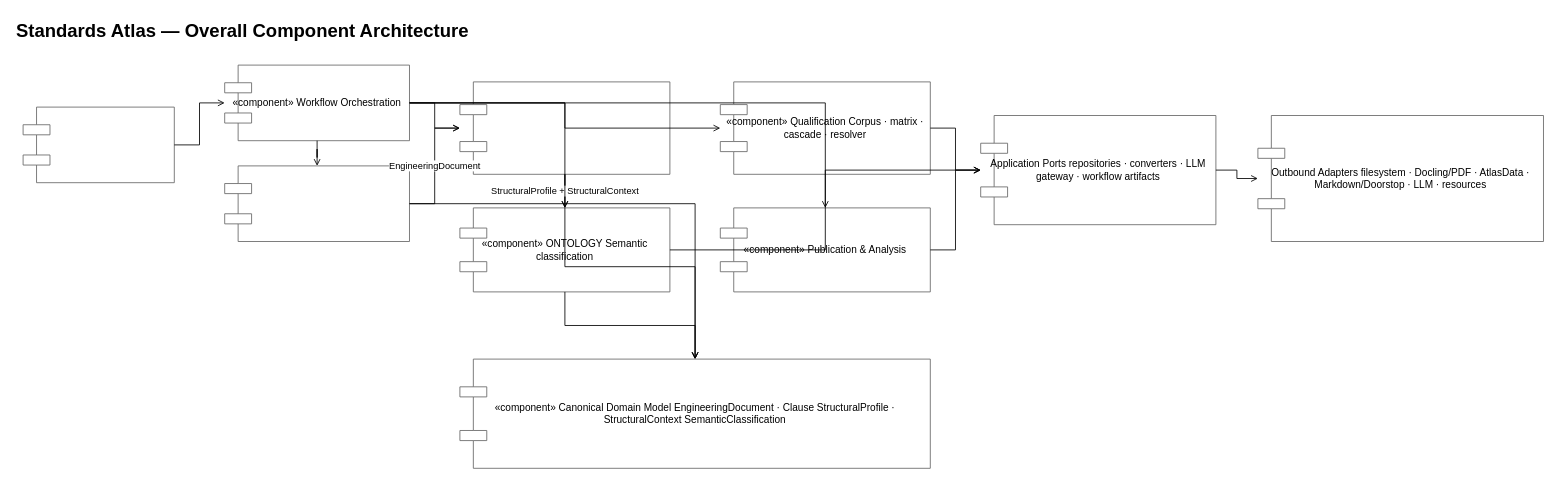
Some shapes in this 1558 by 483 pixel diagram are drawn without their labels. The box of each missing label's shape, as (x1, y1, x2, y2) in pixels:
«component» CLI / MCP: (22, 106, 174, 183)
«component» Document Processing: (224, 165, 410, 242)
«component» TAXONOMY Structural profile · context · scope reach: (459, 81, 670, 174)
